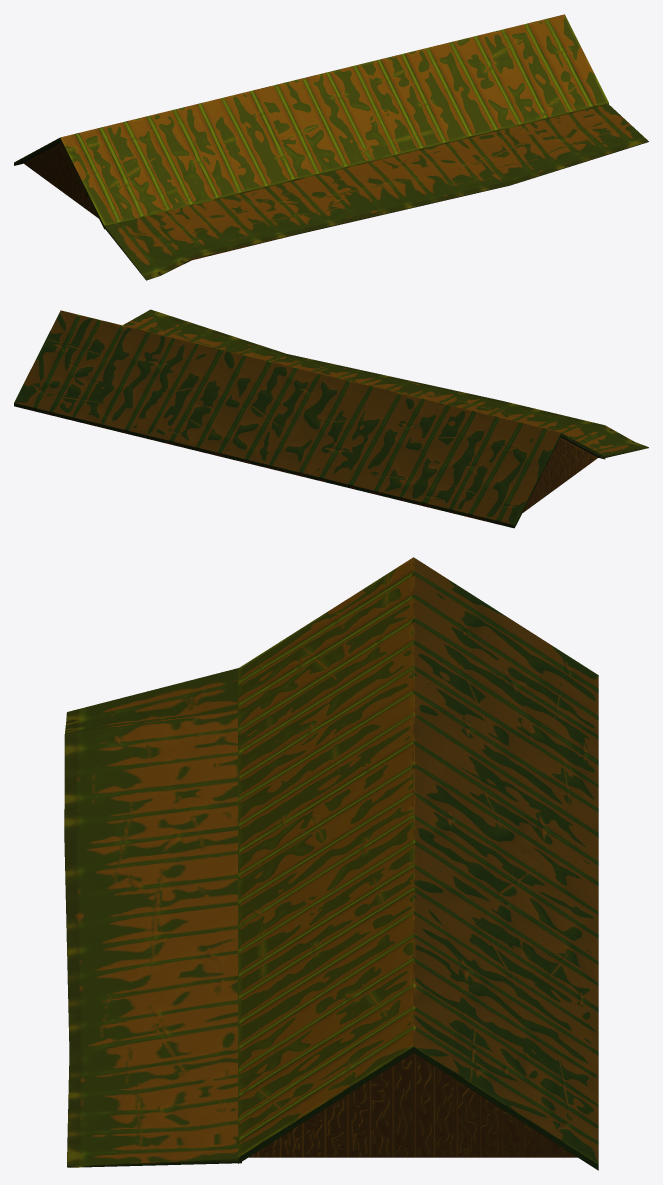
The model's file is MainRoofFixed.fbx.
3 renders of one model, top to bottom at view 1: azimuth 30°, elevation 25°; view 2: azimuth 150°, elevation 25°; view 3: azimuth 270°, elevation 25°, orthographic. The views are drawn at different scales.
Visible parts, largest first — view 1: Roof Sides_LOW; view 2: Roof Sides_LOW; view 3: Roof Sides_LOW.
Boxes of the visible parts, x1,y1,x2,y2 form: Roof Sides_LOW: (14,14,648,280); Roof Sides_LOW: (14,309,648,528); Roof Sides_LOW: (64,557,598,1170).
Bounding box in the file's own units: 2061 × 309 × 950.
3 materials, 3 textured.
